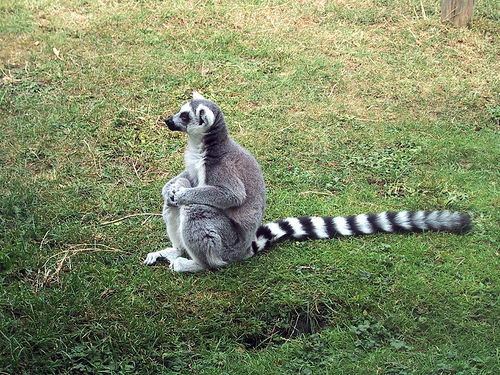cat: (142, 90, 473, 273)
